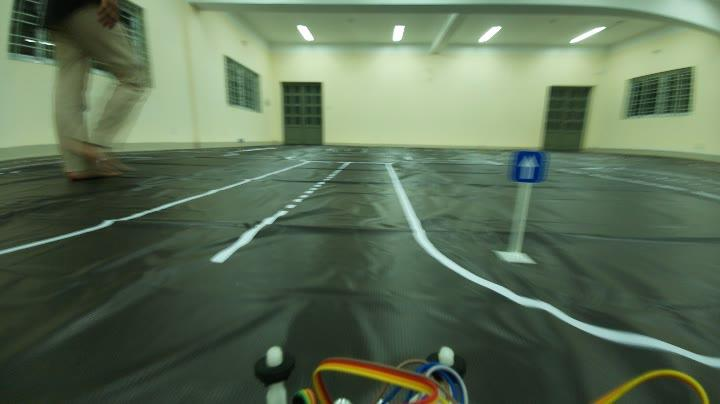onewayroad: (508, 140, 547, 188)
